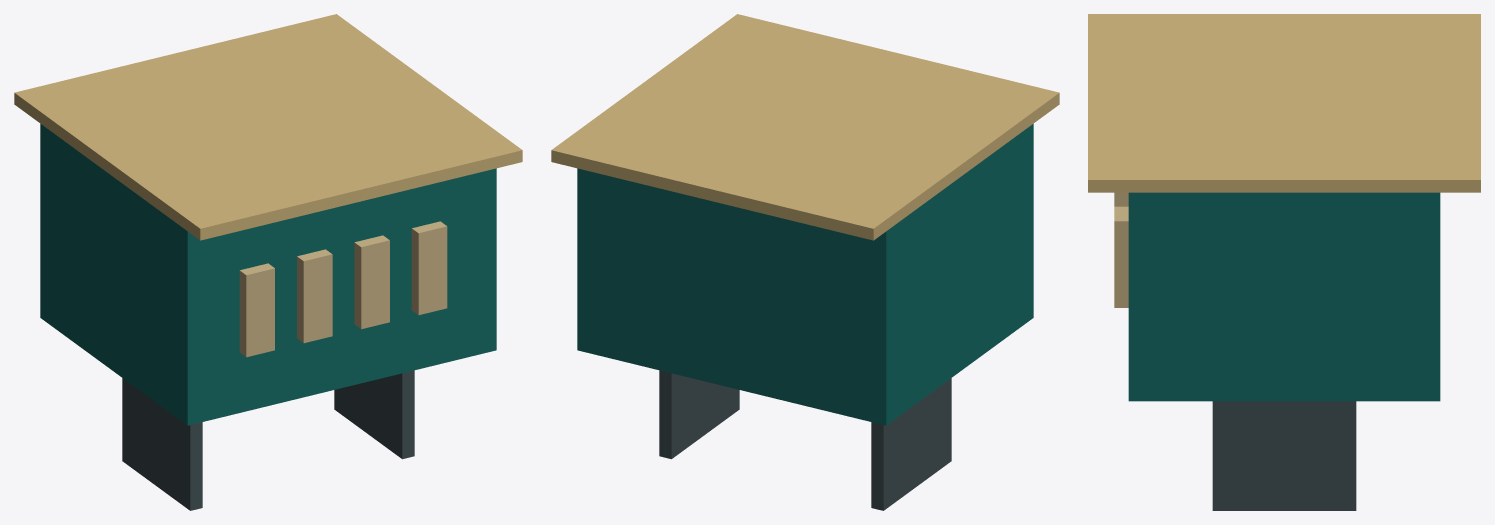
File: facade.glb
The picture shows the model from 3 angles, left to right: view 1: azimuth 30°, elevation 25°; view 2: azimuth 150°, elevation 25°; view 3: azimuth 270°, elevation 25°; orthographic projection. The views are drawn at different scales.
Visible parts, largest first — view 1: facade_body; view 2: facade_body; view 3: facade_body.
Boxes of the visible parts, x1,y1,x2,y2 form: facade_body: [14, 14, 522, 510]; facade_body: [551, 14, 1059, 510]; facade_body: [1088, 14, 1480, 510].
Bounding box in the file's own units: 1 × 1 × 1.
